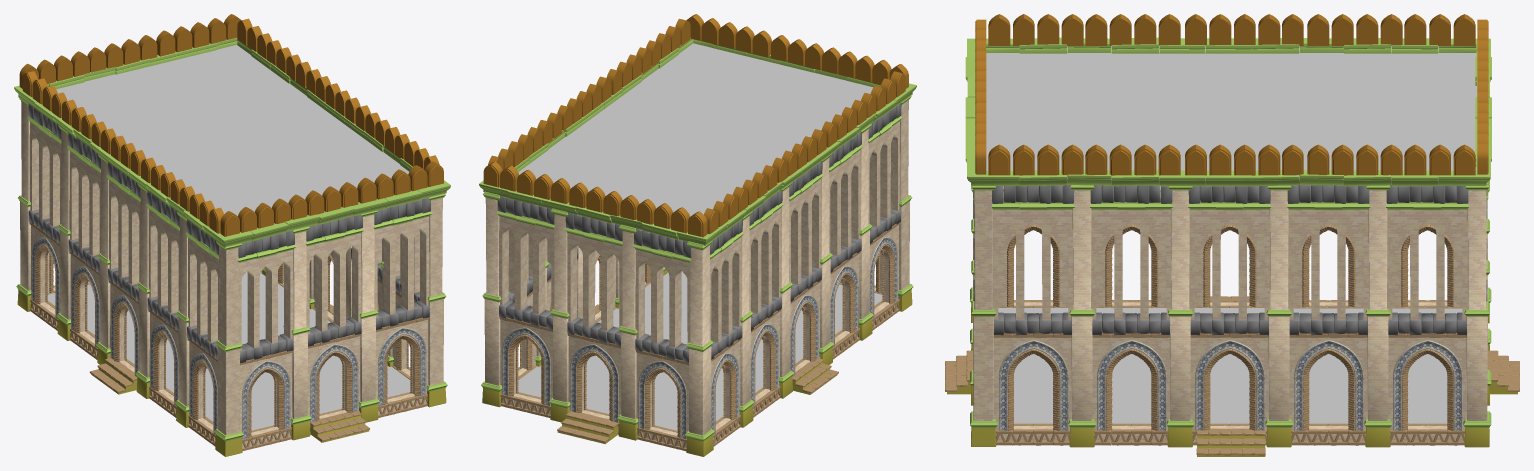
The model's file is SM_palace_01.fbx.
3 views of the same model, side by side, from view 1: azimuth 30°, elevation 25°; view 2: azimuth 150°, elevation 25°; view 3: azimuth 270°, elevation 25° (orthographic). The views are drawn at different scales.
Visible parts, largest first — view 1: Object32941; view 2: Object32941; view 3: Object32941.
Boxes of the visible parts, <box> form: Object32941: <box>14,14,450,456</box>; Object32941: <box>479,14,916,456</box>; Object32941: <box>945,14,1519,456</box>.
Bounding box in the file's own units: 593 × 530 × 924.
